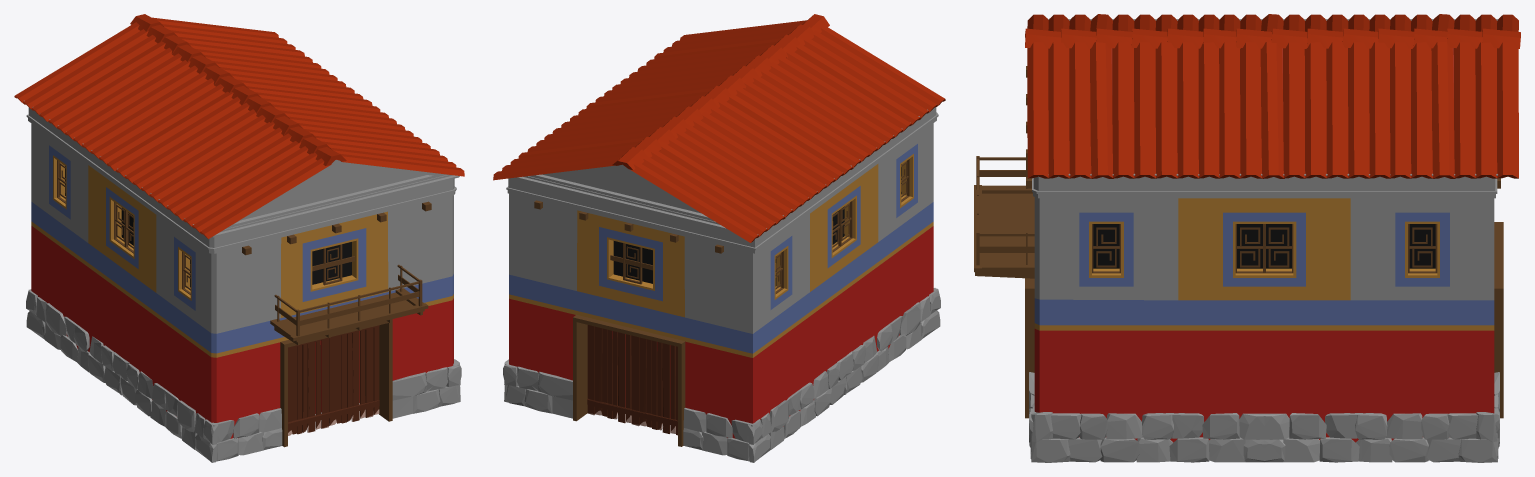
File: SM_villa_roman_01.fbx
3 views of the same model, side by side, from view 1: azimuth 30°, elevation 25°; view 2: azimuth 150°, elevation 25°; view 3: azimuth 270°, elevation 25° (orthographic). The views are drawn at different scales.
Visible parts, largest first — view 1: Object246; view 2: Object246; view 3: Object246.
Part boxes in pixels (x1=…): Object246: x1=14, y1=14, x2=464, y2=462; Object246: x1=493, y1=14, x2=945, y2=462; Object246: x1=974, y1=14, x2=1520, y2=462.
Bounding box in the file's own units: 322 × 329 × 461.
